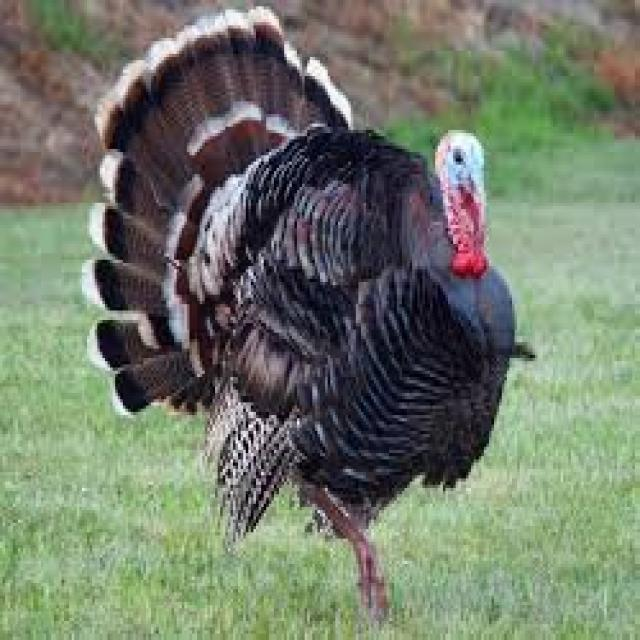Turkey: (81, 3, 542, 593)
